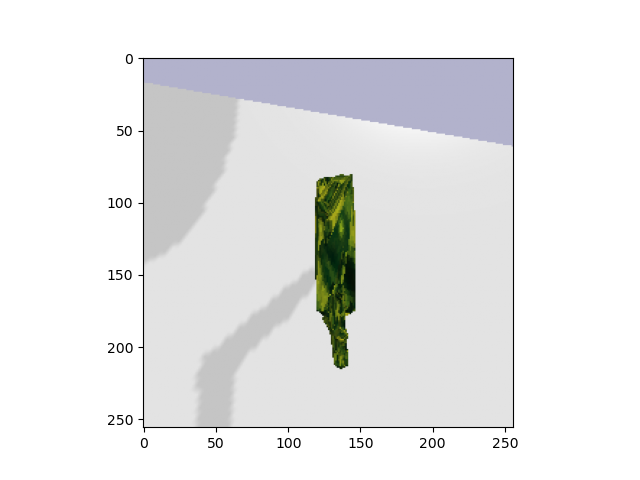v249b387_108: (302, 171, 373, 381)
